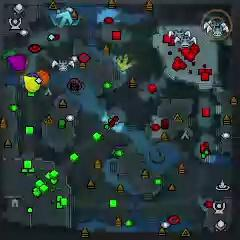p3: (7, 55, 28, 70)
p4: (23, 74, 40, 93)
p5: (37, 70, 50, 87)
x2: (115, 54, 135, 72)
x3: (55, 11, 73, 28)
x4: (2, 49, 20, 60)
